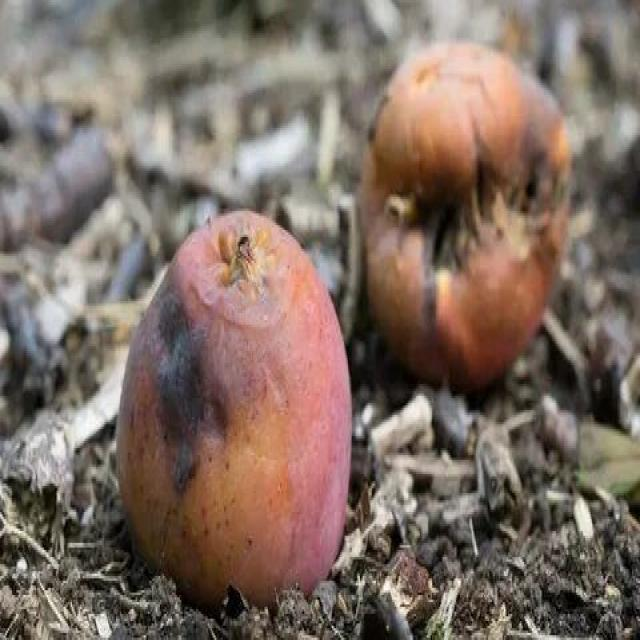Rotten: (112, 218, 365, 597), (357, 52, 578, 368)
